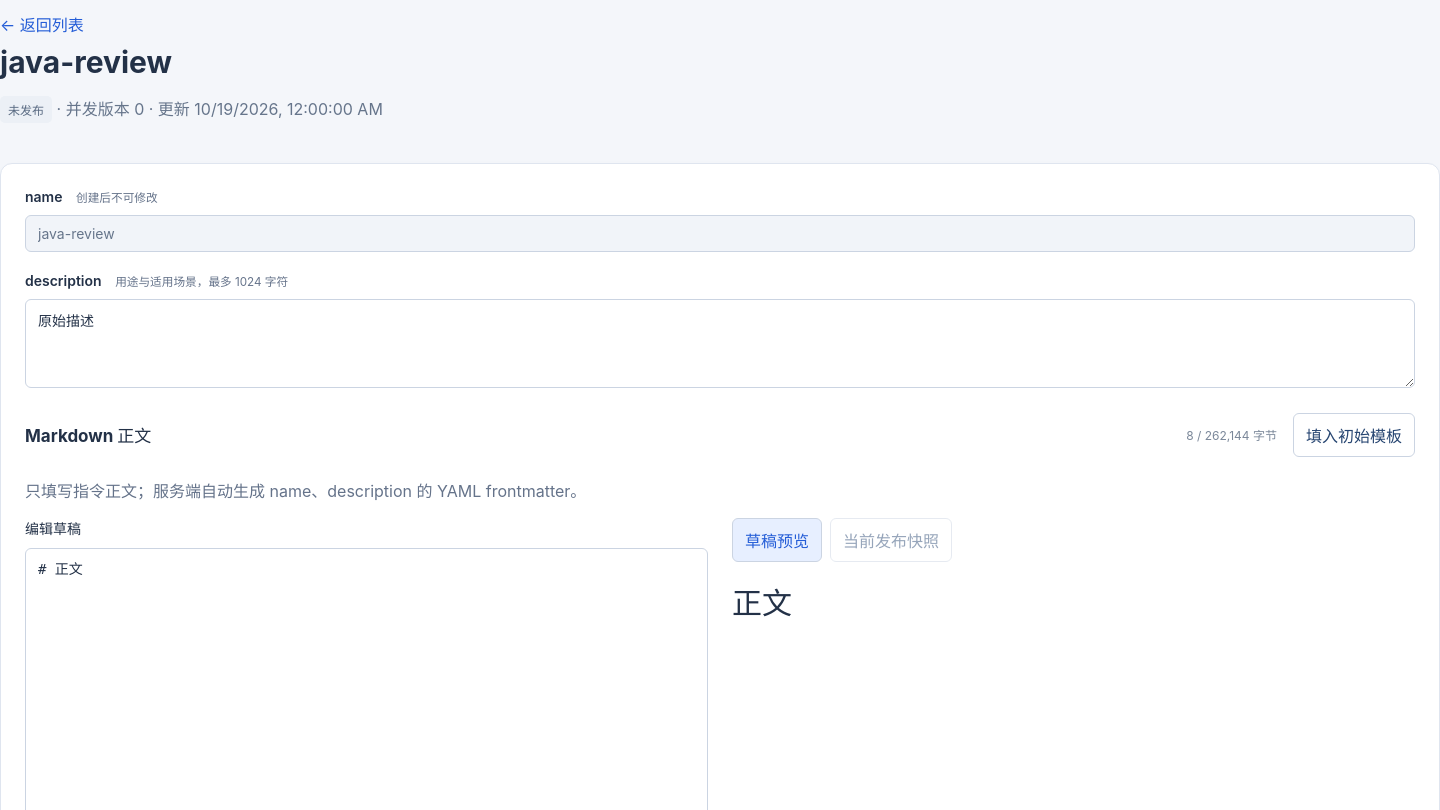
编辑流程 › 409 冲突后保留输入并提示刷新，阻止继续覆盖
Replace the text in the text box labelled "description 用途与适用场景，最多 1024 字符" with "我尚未提交的新描述": (720, 344) x1=25 y1=299 x2=1415 y2=388
(page scrolled)
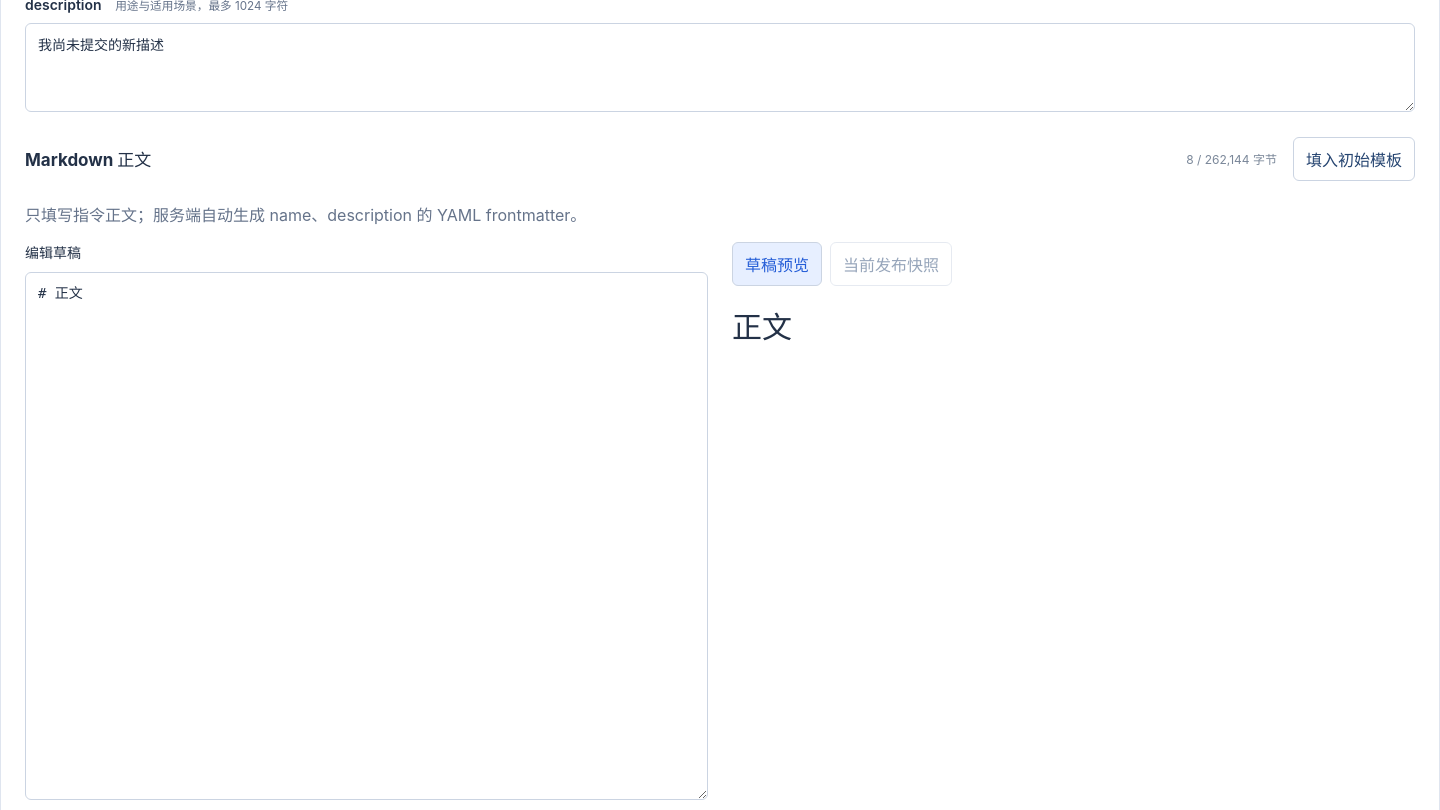
Submit the form
(page scrolled)
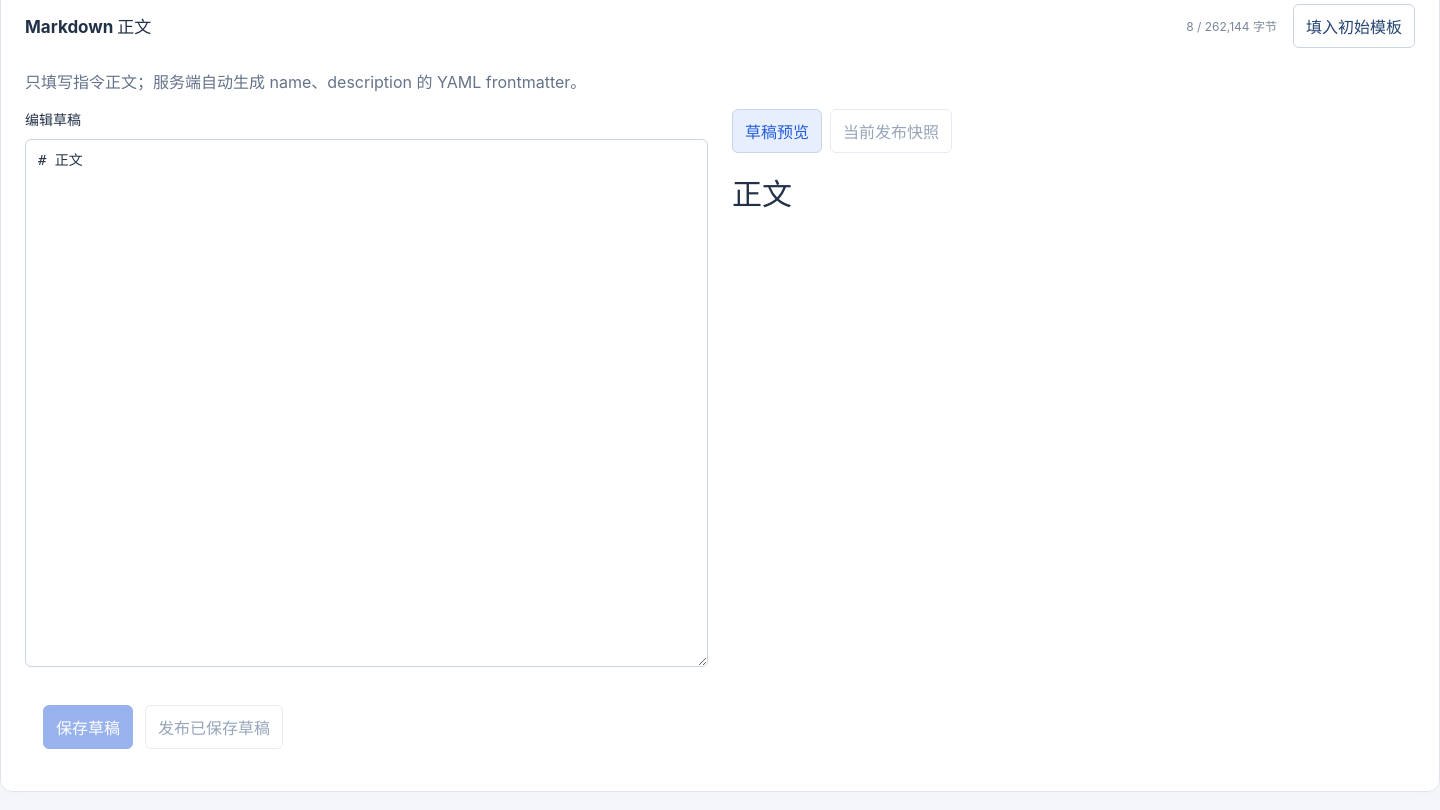
Check: the button "保存草稿" is disabled, box x1=43 y1=705 x2=133 y2=749
